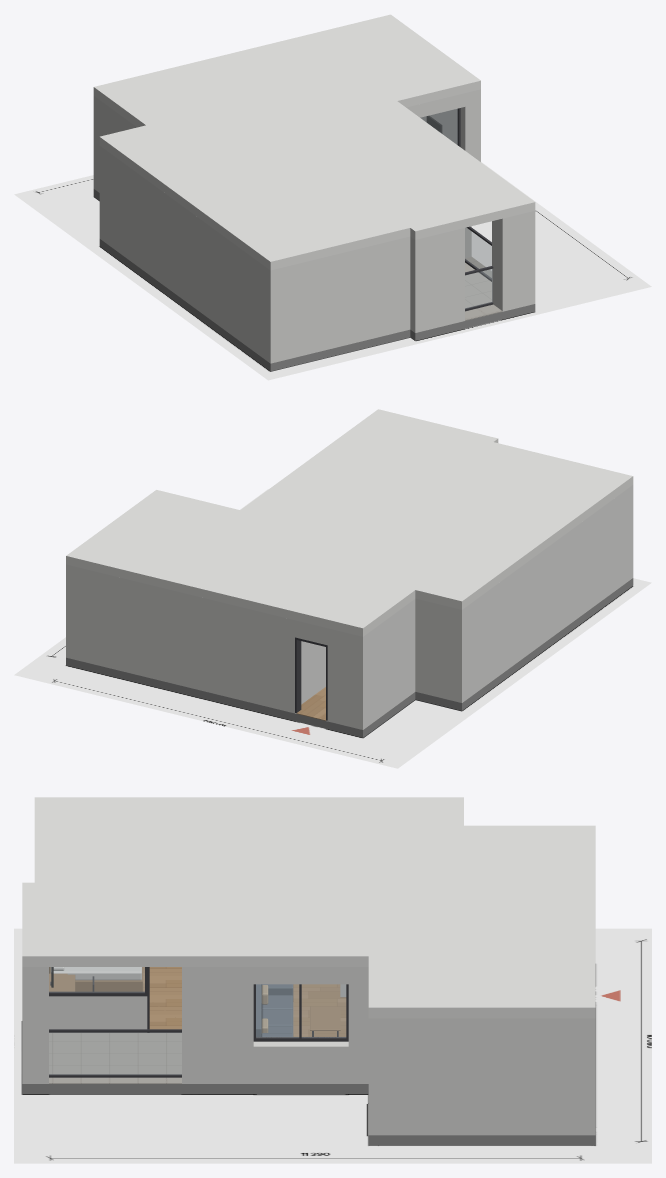
Rendered from D601_Mocca_flat.fbx.
3 renders of one model, top to bottom at view 1: azimuth 30°, elevation 25°; view 2: azimuth 150°, elevation 25°; view 3: azimuth 270°, elevation 25°, orthographic. The views are drawn at different scales.
Visible parts, largest first — view 1: Ceiling, Walls, Reference plan (hide for renders), Floor slab, Floor 08 Loggia, Loggia railing south, Loggia railing east, Room 04 window; view 2: Ceiling, Walls, Reference plan (hide for renders), Floor slab, Front door frame; view 3: Ceiling, Walls, Reference plan (hide for renders), Floor 08 Loggia, Loggia railing east, Floor slab, Living window, Room 03 loggia window, Floor 03 Bedroom, Sofa, Floor 02 Living room + kitchen, Bed 03 (+1 smaller).
Boxes of the visible parts, x1,y1,x2,y2 form: Ceiling: [93, 14, 535, 270]; Walls: [93, 89, 535, 363]; Reference plan (hide for renders): [14, 162, 651, 380]; Floor slab: [93, 189, 535, 371]; Floor 08 Loggia: [465, 256, 502, 320]; Loggia railing south: [465, 266, 493, 311]; Loggia railing east: [465, 226, 491, 281]; Room 04 window: [421, 108, 460, 146]; Ceiling: [66, 409, 633, 636]; Walls: [66, 485, 633, 729]; Reference plan (hide for renders): [14, 489, 651, 768]; Floor slab: [66, 578, 633, 737]; Front door frame: [295, 637, 327, 720]; Ceiling: [22, 797, 595, 1018]; Walls: [22, 967, 595, 1135]; Reference plan (hide for renders): [14, 928, 651, 1163]; Floor 08 Loggia: [49, 1033, 181, 1083]; Loggia railing east: [49, 1029, 181, 1077]; Floor slab: [22, 1032, 595, 1145]; Living window: [253, 984, 348, 1041]; Room 03 loggia window: [49, 967, 147, 996]; Floor 03 Bedroom: [143, 967, 181, 1029]; Sofa: [256, 984, 293, 1036]; Floor 02 Living room + kitchen: [293, 984, 346, 1036]; Bed 03: [49, 967, 142, 991].
Size of the model in its own units: 1172 by 1345 by 321.
19 materials, 4 textured.
